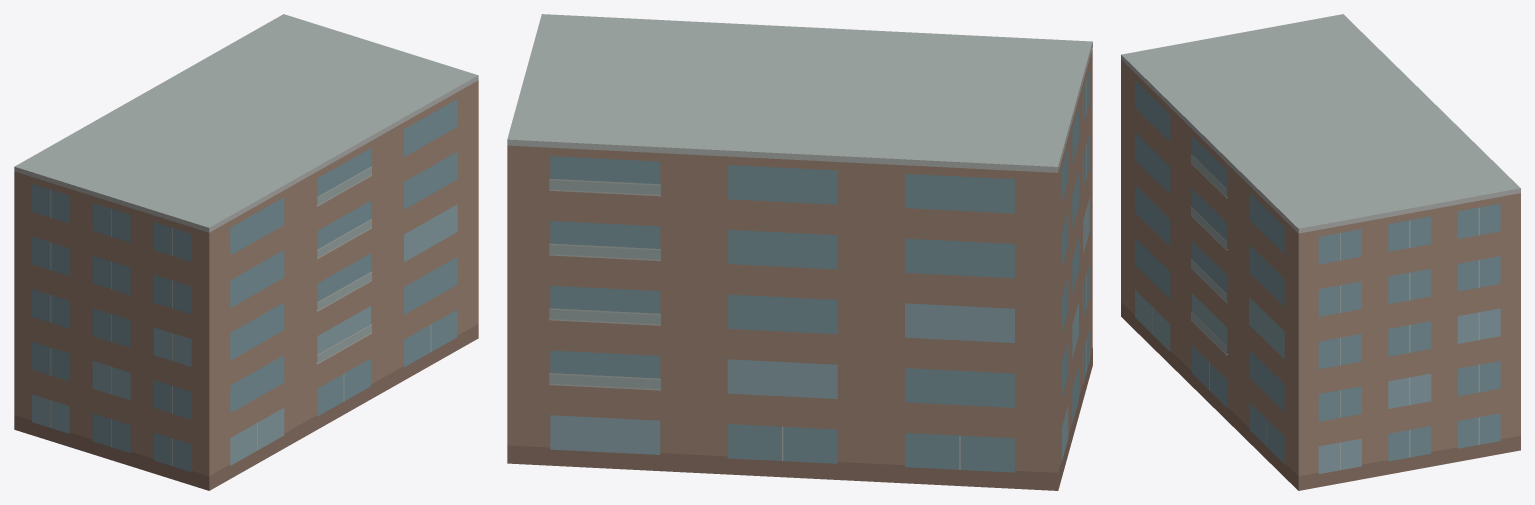
File: survey-upis-32917217.glb
The picture shows the model from 3 angles, left to right: view 1: azimuth 30°, elevation 25°; view 2: azimuth 150°, elevation 25°; view 3: azimuth 270°, elevation 25°; orthographic projection. The views are drawn at different scales.
Parts seen in each view (by area): view 1: survey-upis-32917217.tmp; view 2: survey-upis-32917217.tmp; view 3: survey-upis-32917217.tmp.
Boxes of the visible parts, x1,y1,x2,y2 form: survey-upis-32917217.tmp: (14, 14, 478, 490); survey-upis-32917217.tmp: (507, 14, 1092, 490); survey-upis-32917217.tmp: (1121, 14, 1520, 490).
Size of the model in its own units: 23.57 by 13.4 by 18.53.
